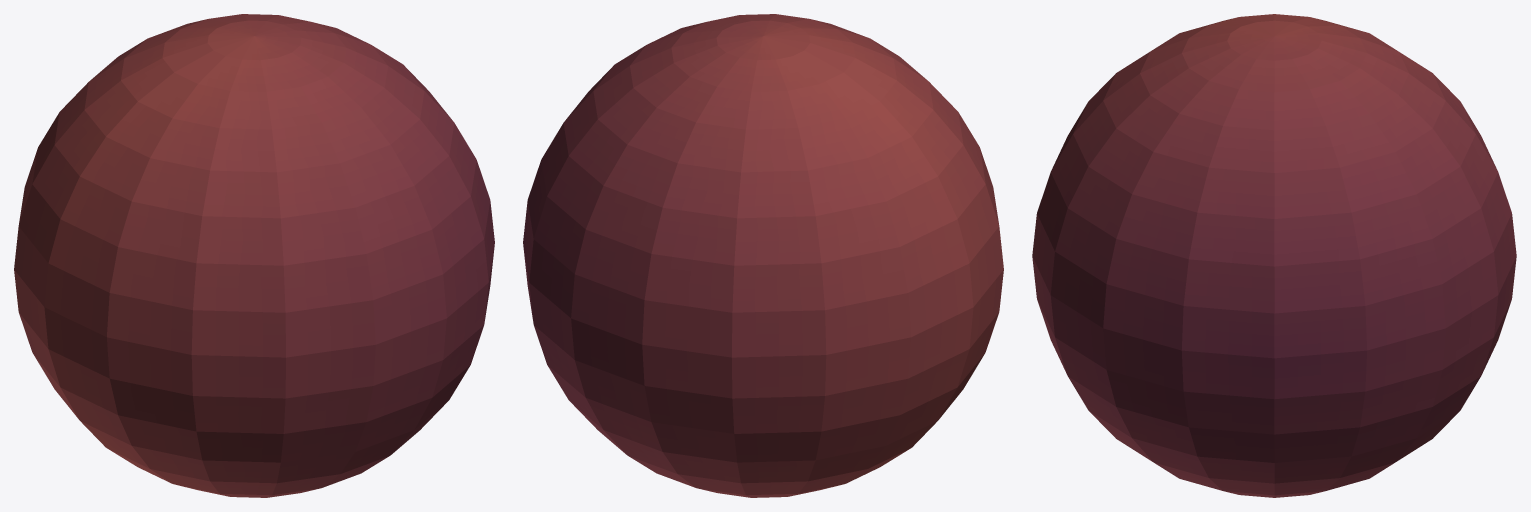
The model's file is bossbullet.obj.
3 views of the same model, side by side, from view 1: azimuth 30°, elevation 25°; view 2: azimuth 150°, elevation 25°; view 3: azimuth 270°, elevation 25° (orthographic).
Parts seen in each view (by area): view 1: 球; view 2: 球; view 3: 球.
Part boxes in pixels (x1,y1,x2,y2): 球: (14, 14, 494, 497); 球: (523, 14, 1003, 497); 球: (1032, 14, 1516, 497).
Bounding box in the file's own units: 2 × 2 × 2.
Materials: 1 (1 with a texture image).
